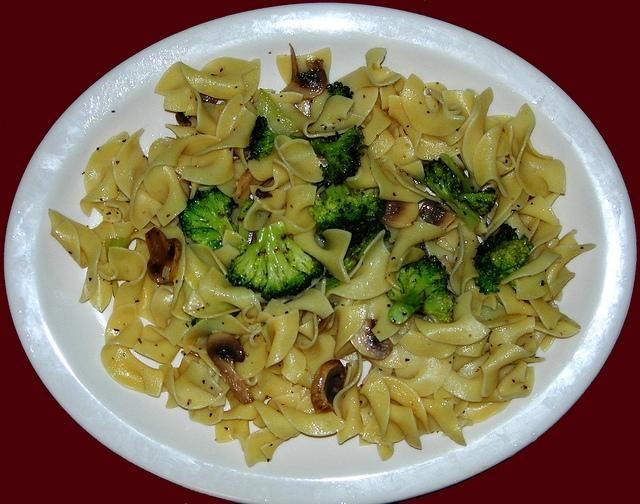broccoli: (229, 223, 324, 300), (422, 154, 498, 230), (309, 180, 391, 247), (388, 254, 457, 324), (473, 223, 534, 295), (178, 186, 238, 251), (310, 126, 362, 186), (249, 115, 281, 161)
mushroom: (207, 332, 255, 405), (280, 42, 328, 96), (145, 226, 182, 283), (310, 359, 346, 415), (350, 318, 392, 360), (232, 169, 264, 207), (418, 201, 457, 230), (382, 202, 419, 228), (318, 316, 331, 335), (175, 112, 192, 126), (199, 92, 218, 104)
